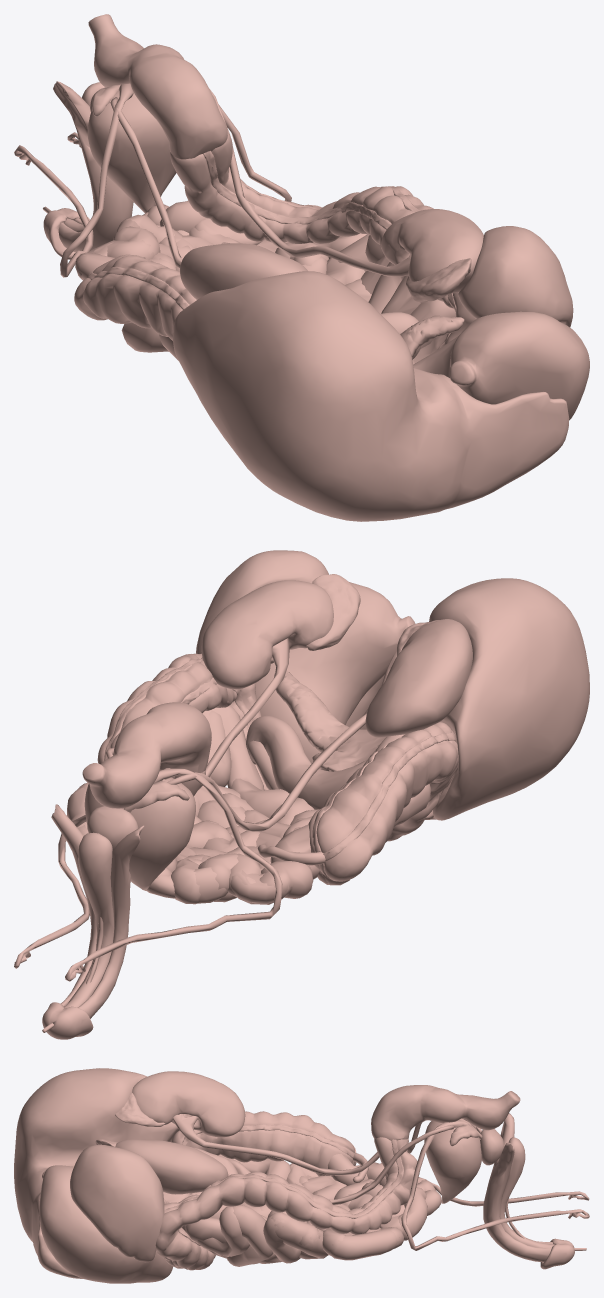
Rendered from abdomen__organs.4610d02715.glb.
3 views of the same model, one above another, from view 1: azimuth 30°, elevation 25°; view 2: azimuth 150°, elevation 25°; view 3: azimuth 270°, elevation 25° (orthographic). The views are drawn at different scales.
Parts seen in each view (by area): view 1: FMA7197, FMA14543nsn, FMA7148, FMA14544, FMA7196, FMA7208, FMA15900, FMA7205, FMA7204, FMA7207, FMA19618, FMA19235 (+8 smaller); view 2: FMA7197, FMA14543nsn, FMA7208, FMA7205, FMA7148, FMA7204, FMA14544, FMA7207, FMA19618, FMA15900, FMA7206, FMA7198nsn (+13 smaller); view 3: FMA14543nsn, FMA7197, FMA7196, FMA7207, FMA7148, FMA7208, FMA14544, FMA7204, FMA7205, FMA15900, FMA19618, FMA19236 (+11 smaller).
Boxes of the visible parts, bbox=[...] form: FMA7197: bbox=[173, 271, 569, 521]; FMA14543nsn: bbox=[74, 132, 475, 364]; FMA7148: bbox=[413, 311, 589, 420]; FMA14544: bbox=[88, 14, 227, 159]; FMA7196: bbox=[458, 226, 573, 327]; FMA7208: bbox=[75, 201, 366, 352]; FMA15900: bbox=[87, 90, 176, 213]; FMA7205: bbox=[381, 209, 483, 293]; FMA7204: bbox=[180, 243, 307, 299]; FMA7207: bbox=[159, 234, 455, 360]; FMA19618: bbox=[53, 81, 133, 252]; FMA19235: bbox=[14, 83, 133, 277]; FMA7197: bbox=[345, 578, 589, 820]; FMA14543nsn: bbox=[97, 653, 458, 881]; FMA7208: bbox=[67, 782, 349, 904]; FMA7205: bbox=[201, 580, 333, 689]; FMA7148: bbox=[255, 582, 415, 763]; FMA7204: bbox=[365, 619, 472, 737]; FMA14544: bbox=[82, 702, 211, 808]; FMA7207: bbox=[194, 705, 430, 837]; FMA19618: bbox=[51, 804, 144, 1018]; FMA15900: bbox=[84, 777, 195, 890]; FMA7206: bbox=[246, 715, 404, 809]; FMA7198nsn: bbox=[274, 670, 386, 771]; FMA14543nsn: bbox=[155, 1111, 417, 1270]; FMA7197: bbox=[14, 1068, 179, 1278]; FMA7196: bbox=[70, 1144, 164, 1262]; FMA7207: bbox=[185, 1154, 328, 1266]; FMA7148: bbox=[39, 1165, 173, 1283]; FMA7208: bbox=[286, 1154, 441, 1260]; FMA14544: bbox=[371, 1085, 520, 1140]; FMA7204: bbox=[132, 1071, 245, 1137]; FMA7205: bbox=[115, 1139, 228, 1194]; FMA15900: bbox=[424, 1118, 481, 1203]; FMA19618: bbox=[483, 1113, 552, 1262]; FMA19236: bbox=[401, 1120, 589, 1250].
Bounding box in the file's own units: 234 × 176 × 510.
